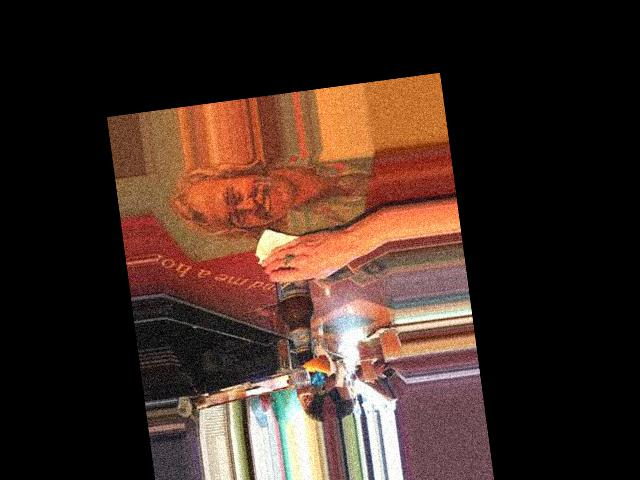beer: (269, 243, 318, 369)
